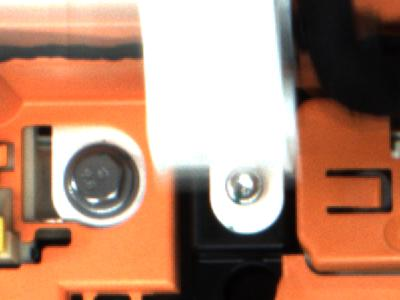nut_b: (59, 141, 152, 224)
